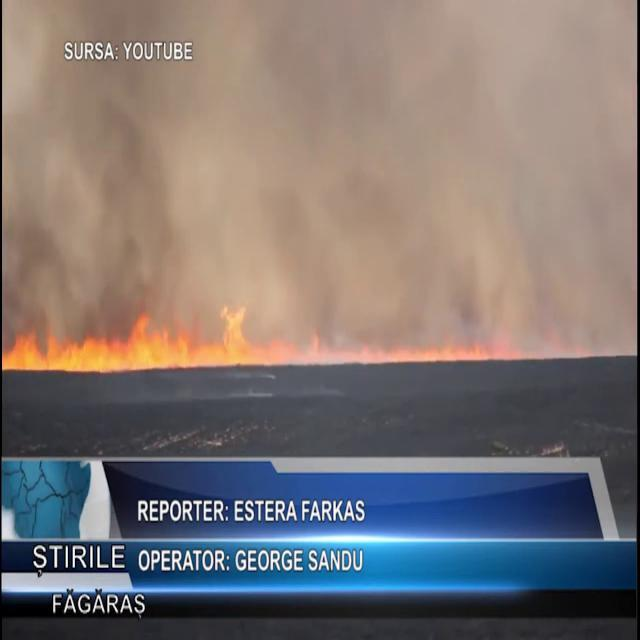Fire: (6, 294, 337, 374)
Smoke: (2, 1, 632, 343)
